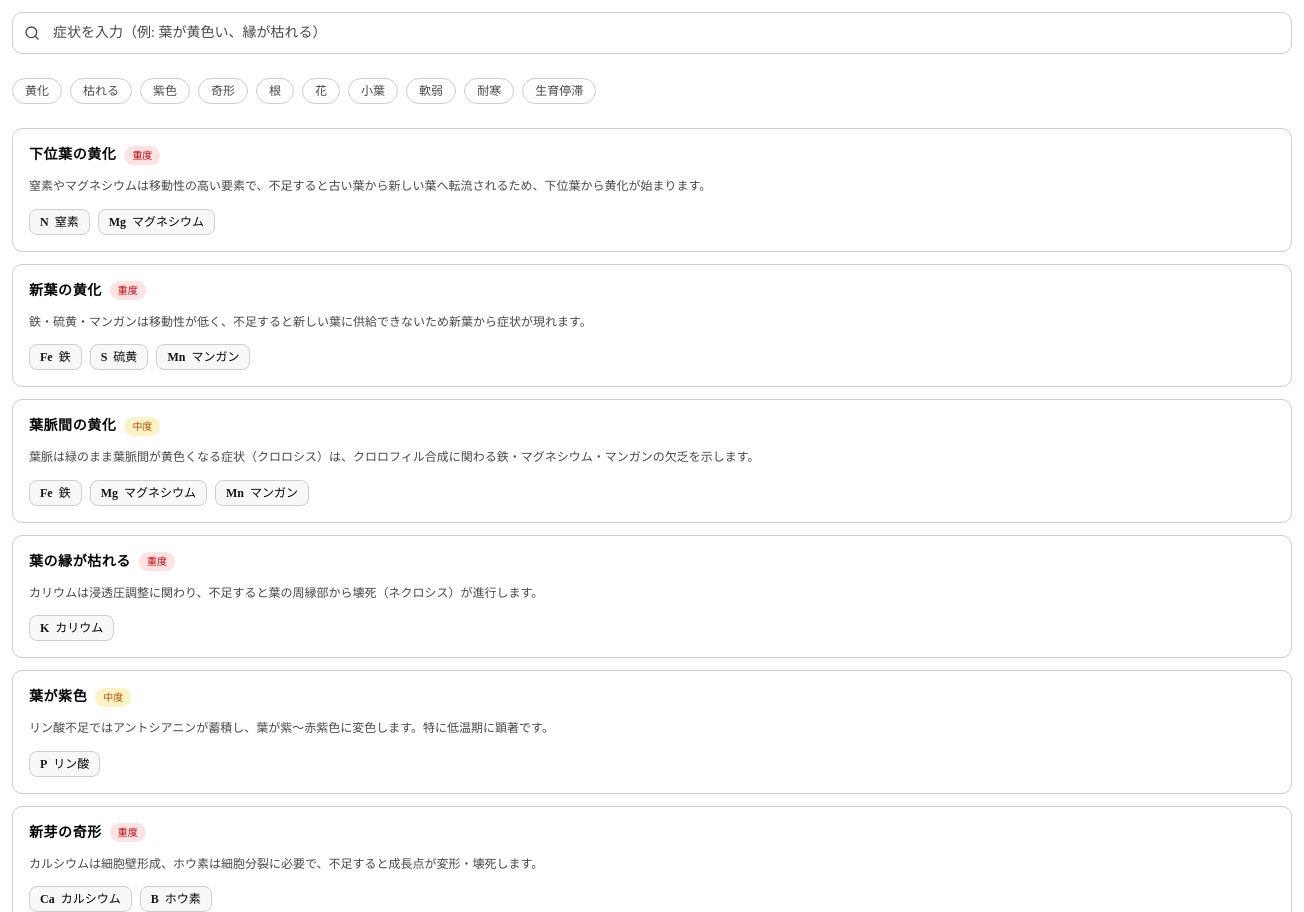
Scenario: NutrientSymptomSearch › 検索クエリ「黄化」で該当症状だけに絞り込まれる
Type "黄化" into the field with placeholder "症状を入力（例: 葉が黄色い、縁が枯れる）" at (652,33), box [12,12,1292,54]
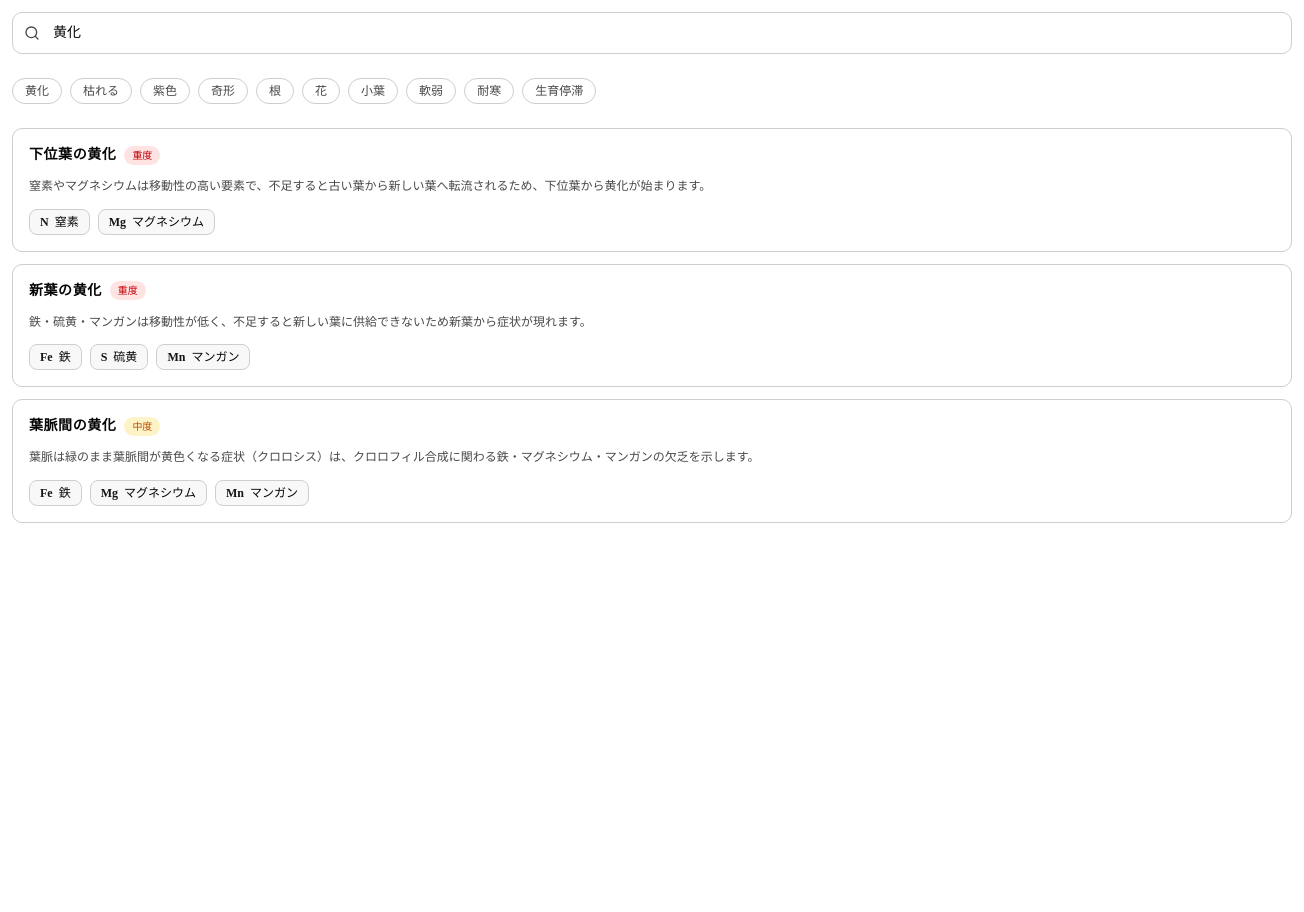
Expected: the heading "下位葉の黄化" is shown, [29,145,116,165]
Now the heading "葉の縁が枯れる" is gone
